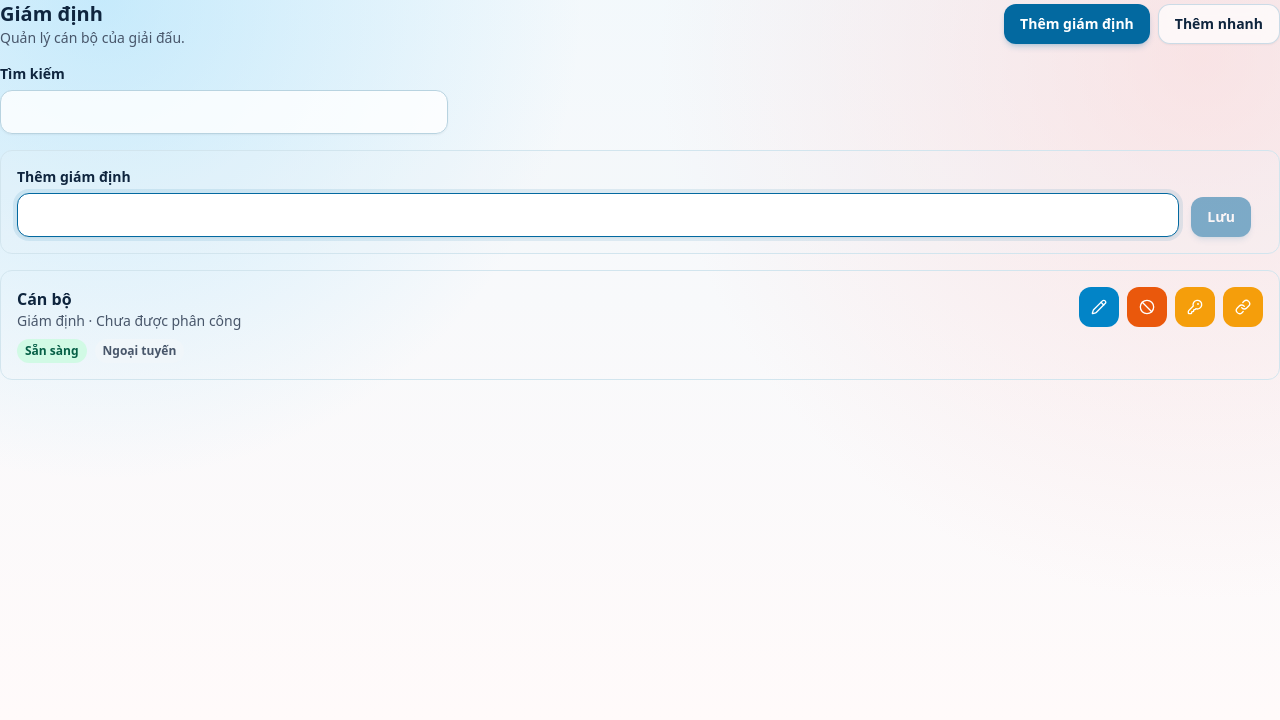
Test: TournamentOfficialsPage credentials › creates a copyable token link for JUDGE
The image size is (1280, 720).
Click the button named "Tạo link đăng nhập" at (1243, 307), box top-left (1223, 287), bottom-right (1263, 327)
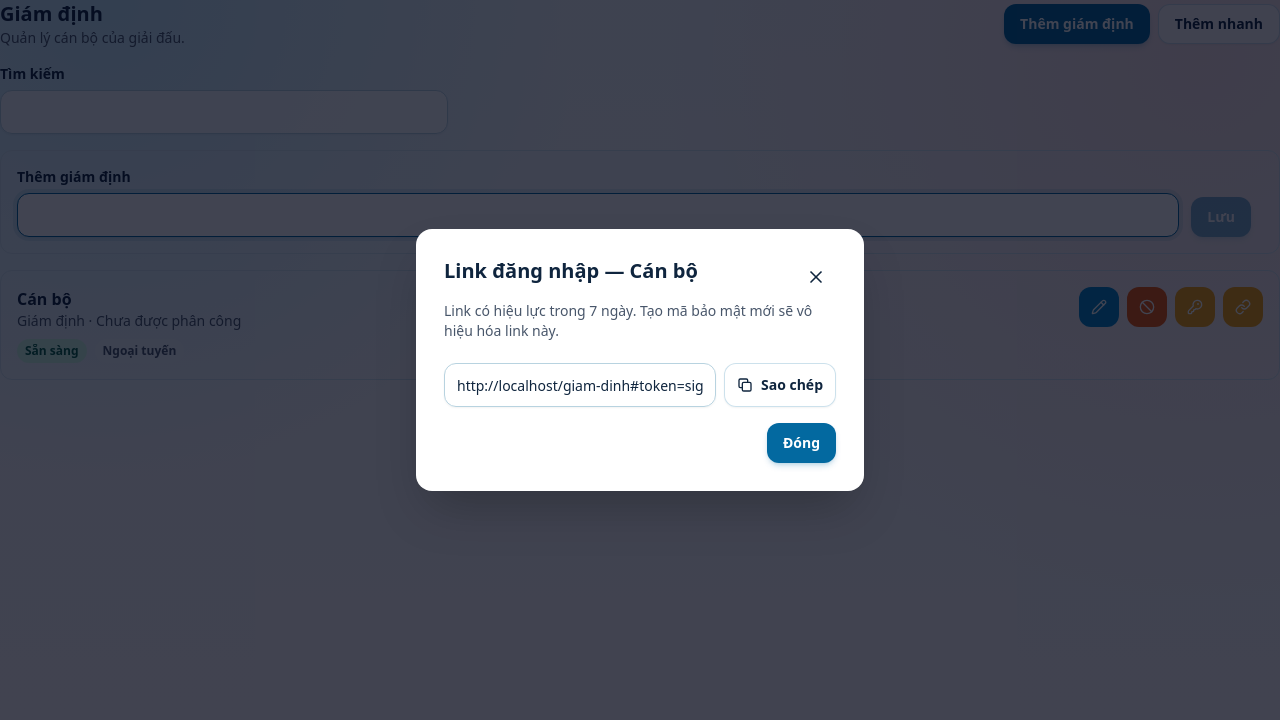
Expected: the button with aria-label "Sao chép link đăng nhập" is shown, top-left (724, 363), bottom-right (836, 407)
